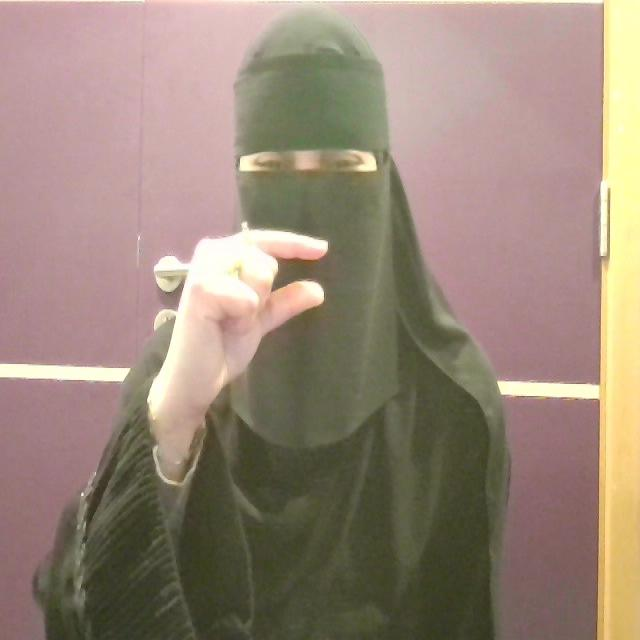fasting: (145, 221, 328, 464)
